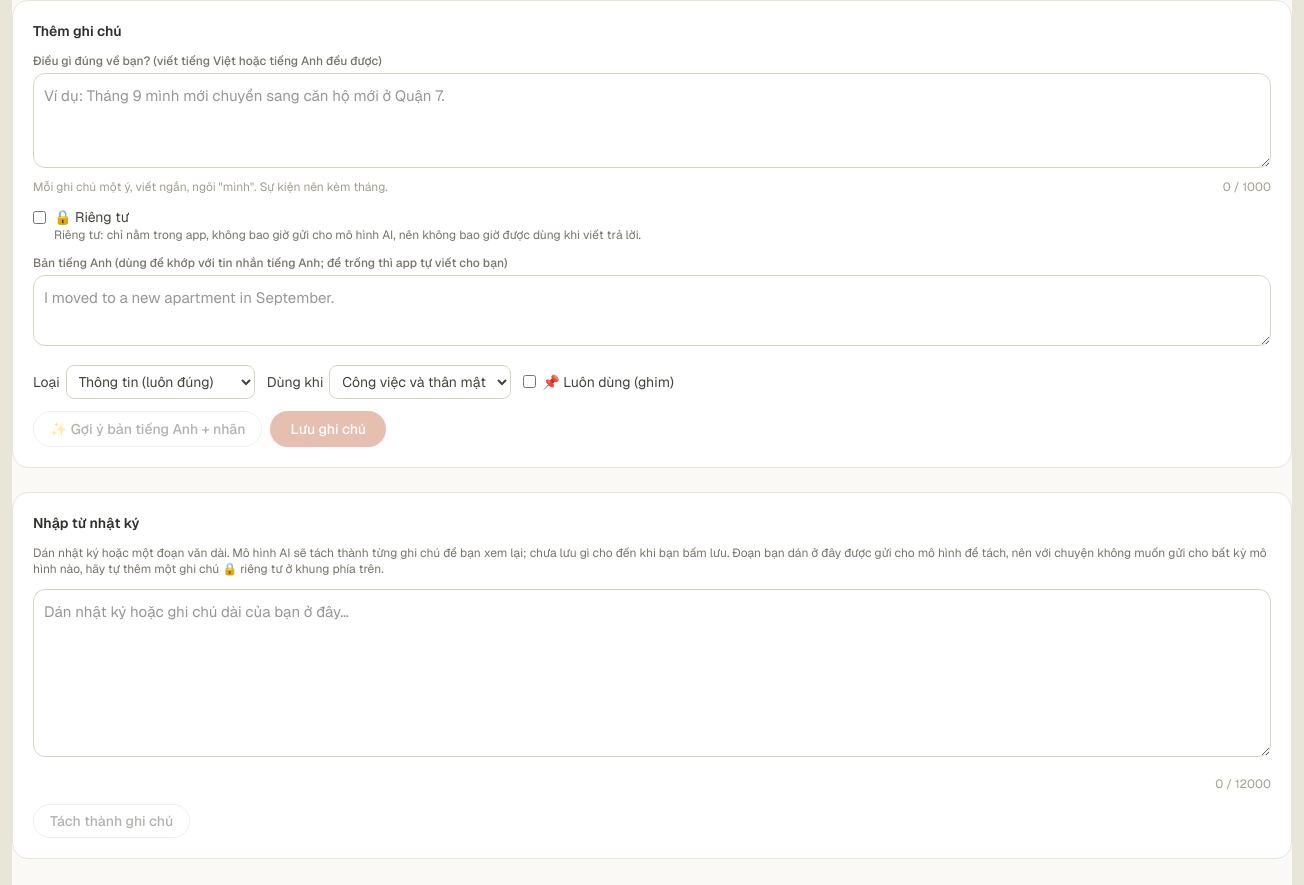
Test case: adding a note › does not carry a private tick over to the next note
Type "Chuyện riêng." into the text box labelled "Điều gì đúng về bạn" at (652, 121), box [33,73,1271,168]
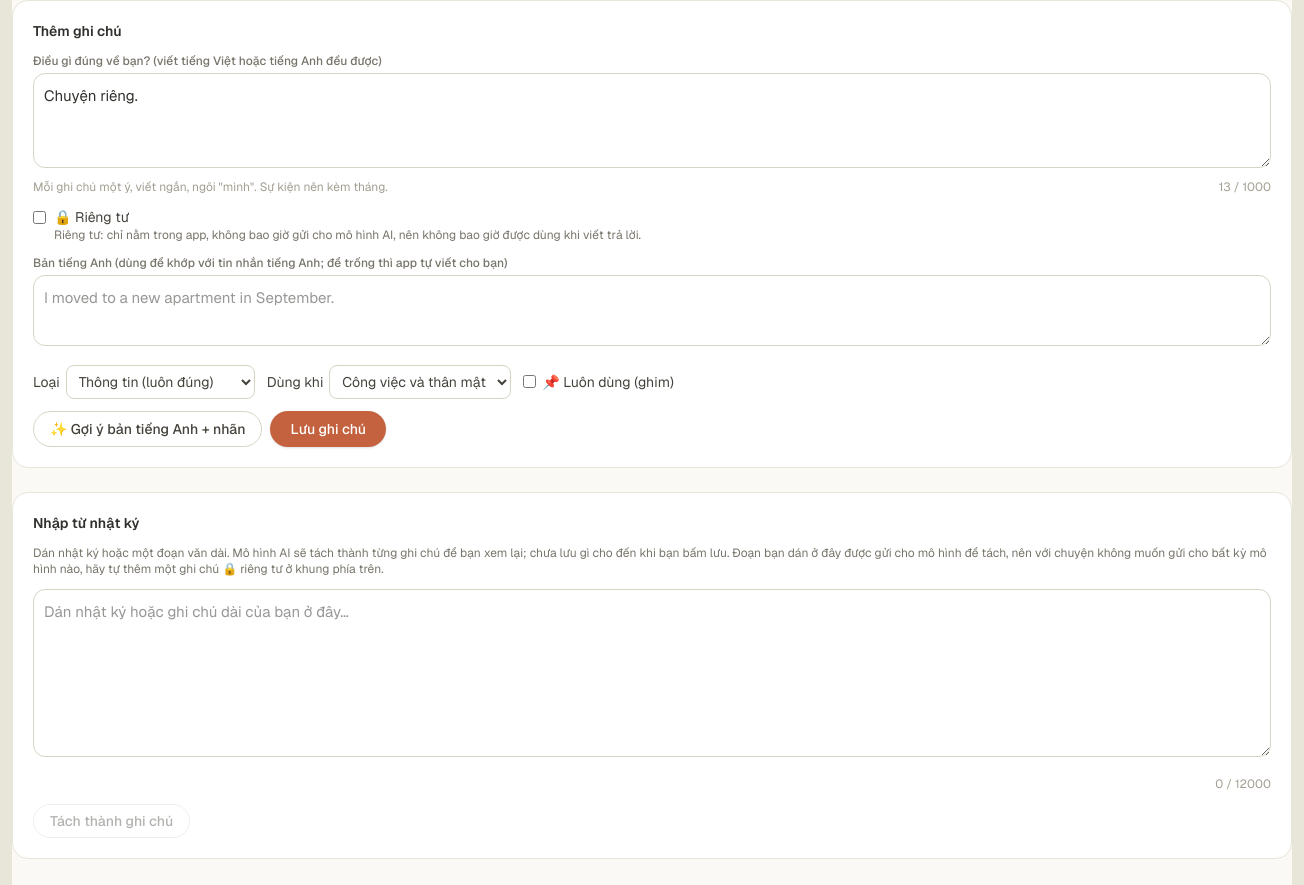
Click the checkbox labelled "Riêng tư" at (40, 218), box [33,211,46,224]
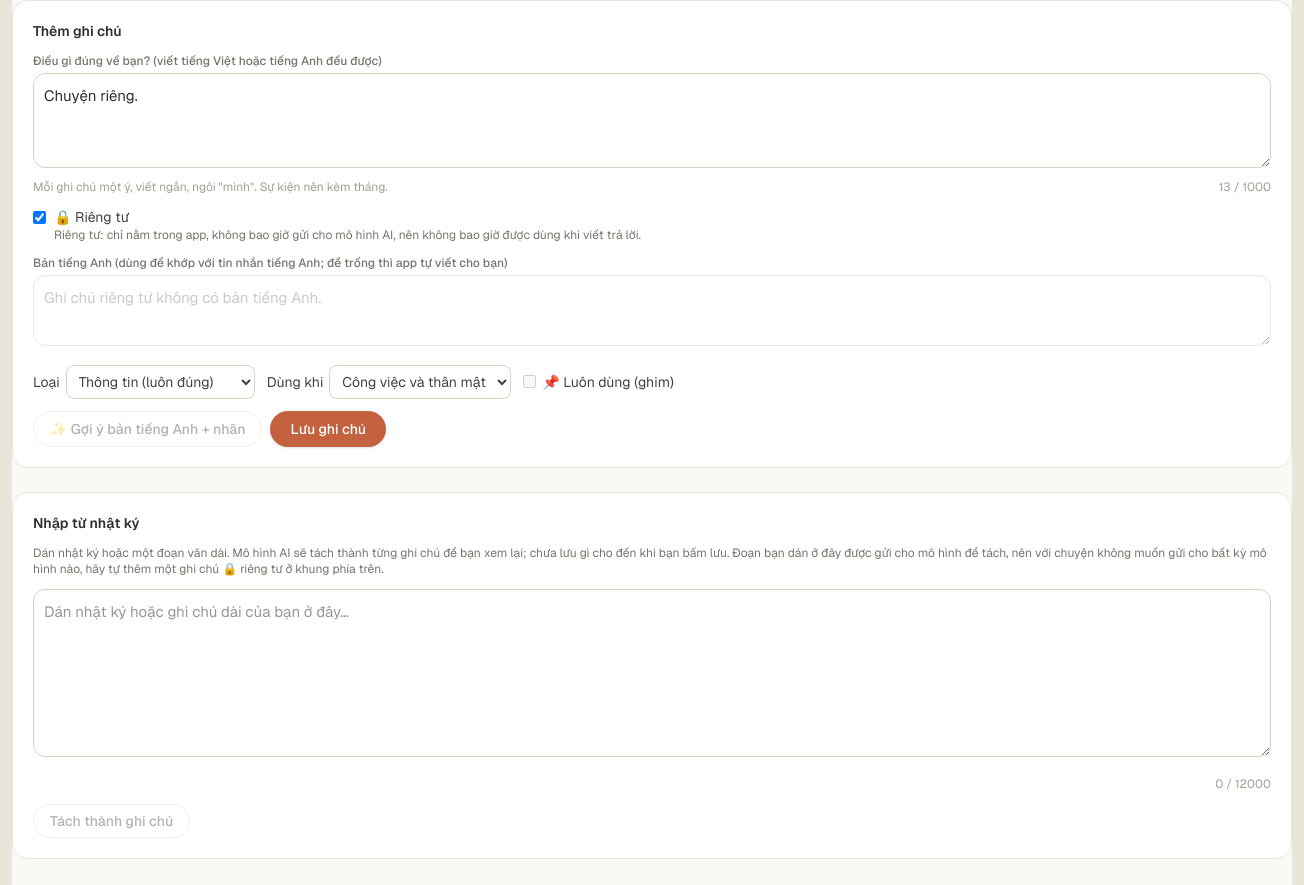
Click the button "Lưu ghi chú" at (328, 429), box [270,411,386,447]
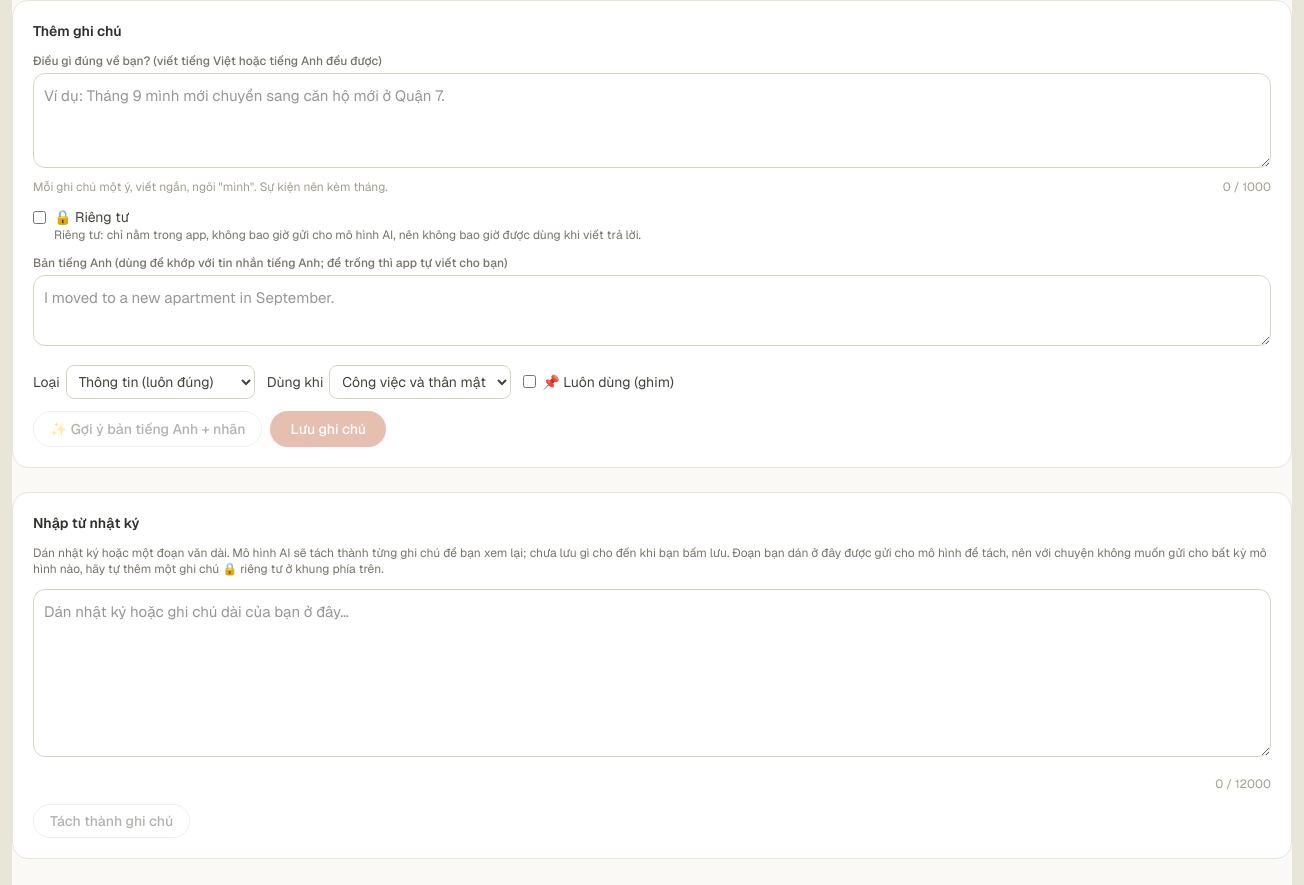
Check: the checkbox labelled "Riêng tư" is not checked, box [33,211,46,224]
Check: the button "✨ Gợi ý bản tiếng Anh + nhãn" is disabled, box [33,411,262,447]
Check: the text box labelled "Điều gì đúng về bạn" is empty
Type "Chuyện công khai." into the text box labelled "Điều gì đúng về bạn" at (652, 121), box [33,73,1271,168]
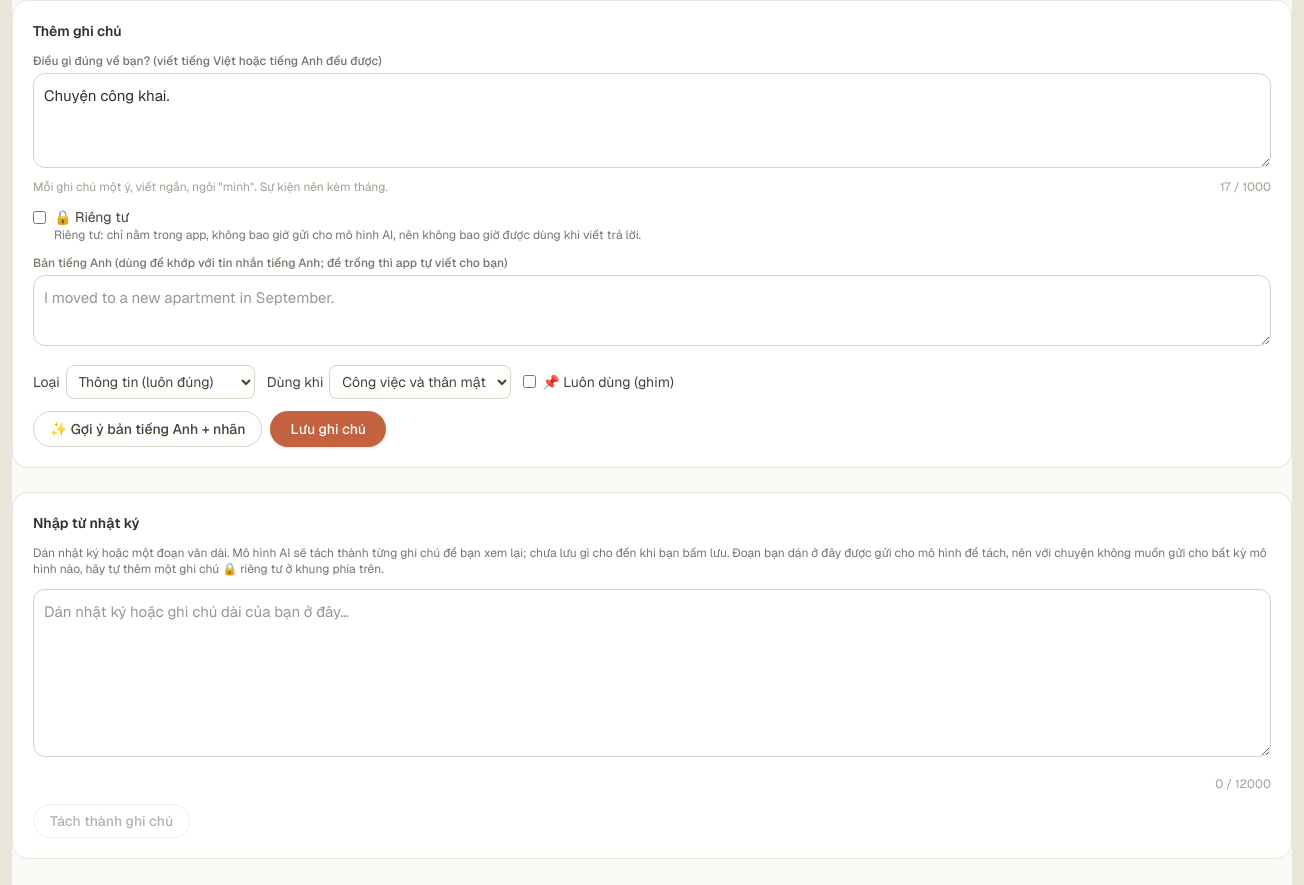
Check: the button "✨ Gợi ý bản tiếng Anh + nhãn" is enabled, box [33,411,262,447]
